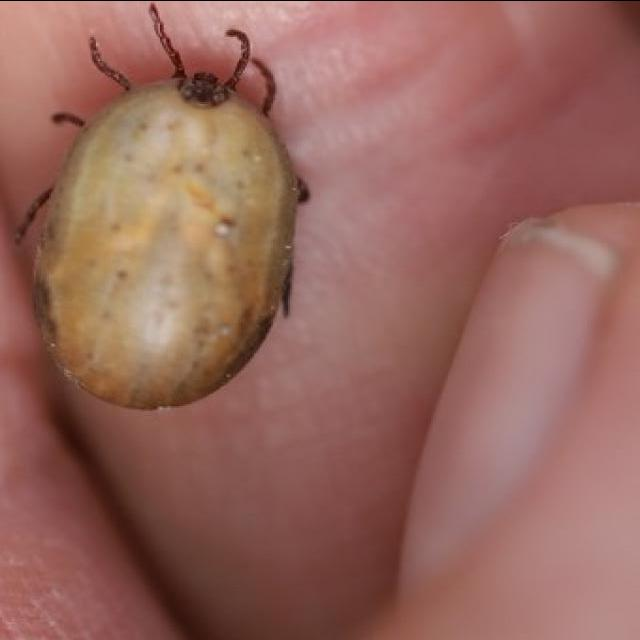Dermacentor Reticulatus-F-Fed: (15, 0, 309, 408)
